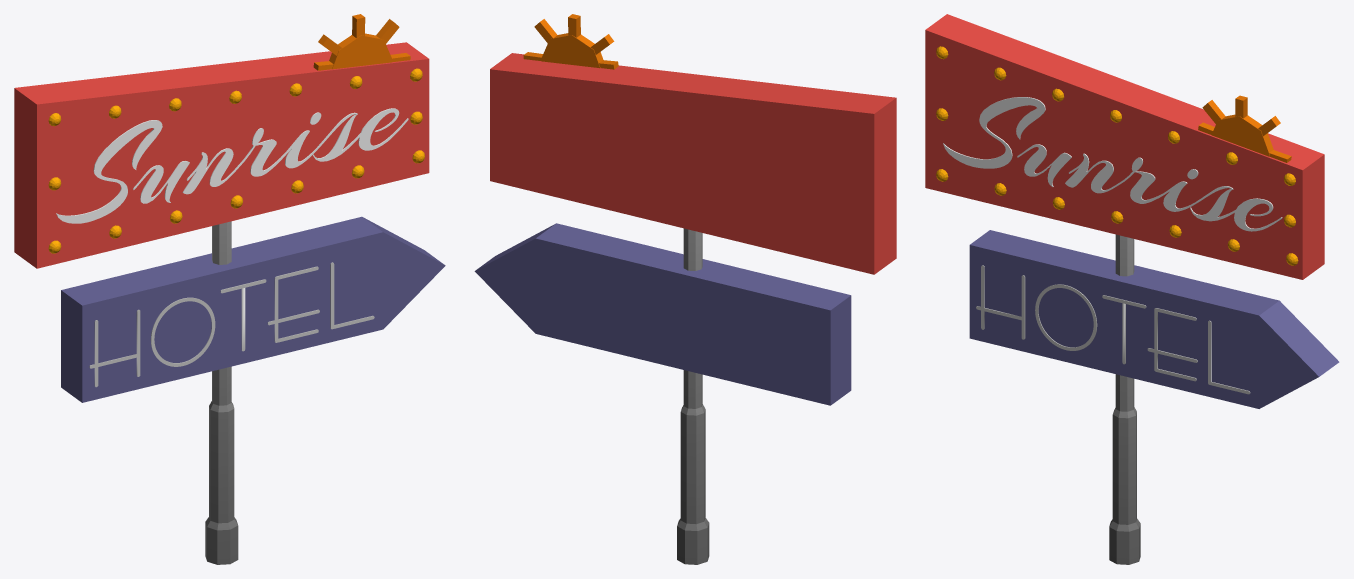
File: Hotel_sign_03.fbx
3 views of the same model, side by side, from view 1: azimuth 30°, elevation 25°; view 2: azimuth 150°, elevation 25°; view 3: azimuth 330°, elevation 25° (orthographic). The views are drawn at different scales.
Parts seen in each view (by area): view 1: Hotel_sign_03; view 2: Hotel_sign_03; view 3: Hotel_sign_03.
Part boxes in pixels (bbox=[...]): Hotel_sign_03: bbox=[14, 14, 445, 564]; Hotel_sign_03: bbox=[474, 14, 896, 564]; Hotel_sign_03: bbox=[925, 14, 1339, 564].
Bounding box in the file's own units: 209 × 251 × 22.6.
